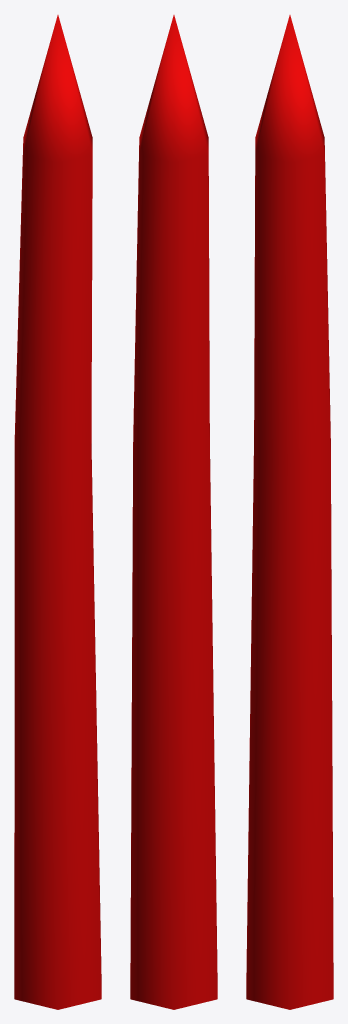
The model's file is Stake_01_Lod0.fbx.
The picture shows the model from 3 angles, left to right: view 1: azimuth 90°, elevation 25°; view 2: azimuth 150°, elevation 25°; view 3: azimuth 330°, elevation 25°; orthographic projection.
Visible parts, largest first — view 1: Stake_01_Lod0; view 2: Stake_01_Lod0; view 3: Stake_01_Lod0.
Part boxes in pixels (left/top/right/bottom): Stake_01_Lod0: left=14, top=15, right=101, bottom=1009; Stake_01_Lod0: left=130, top=15, right=217, bottom=1009; Stake_01_Lod0: left=246, top=15, right=333, bottom=1009.
Bounding box in the file's own units: 11.23 × 120 × 9.72.
